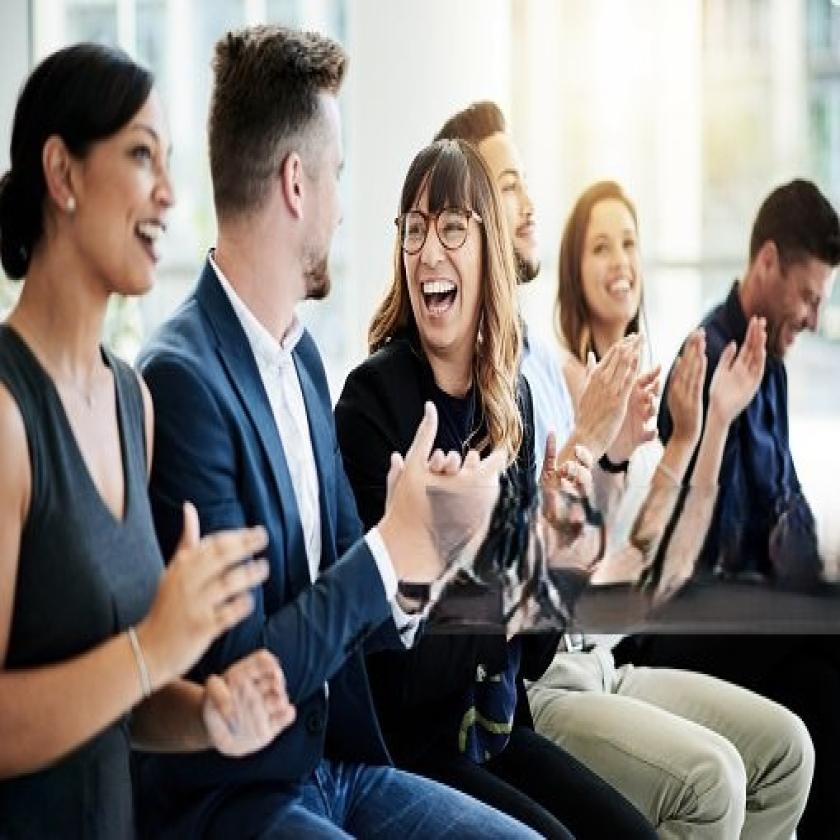Sin_casco: (17, 36, 179, 326), (212, 19, 357, 324), (438, 98, 549, 301), (400, 140, 494, 367), (739, 179, 840, 356), (564, 168, 656, 352)
